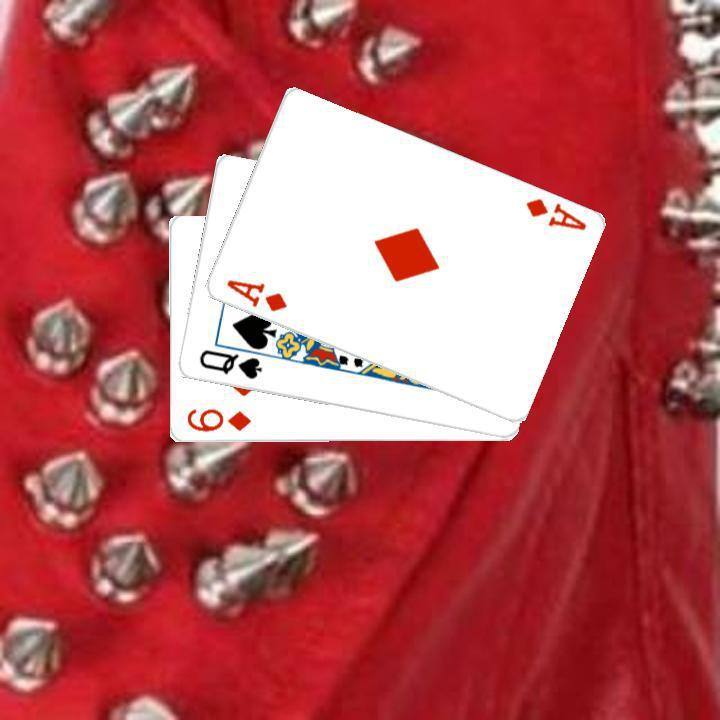6: (181, 405, 252, 434)
A: (221, 275, 289, 314), (520, 194, 588, 233)
Q: (194, 346, 264, 382)
